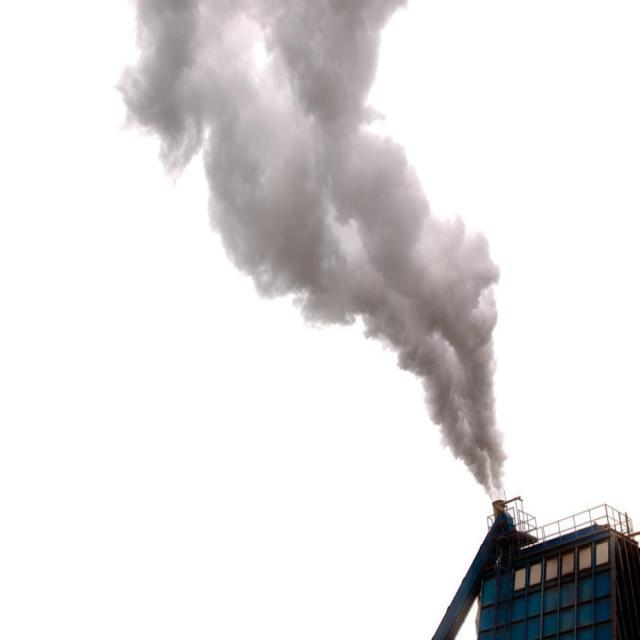Smoke: (105, 0, 507, 499)
